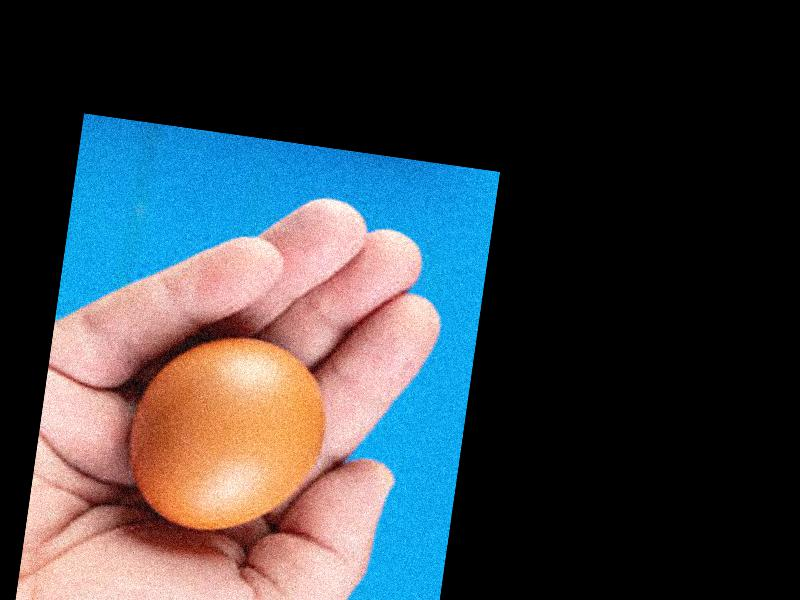Eggs: (124, 322, 335, 543)
